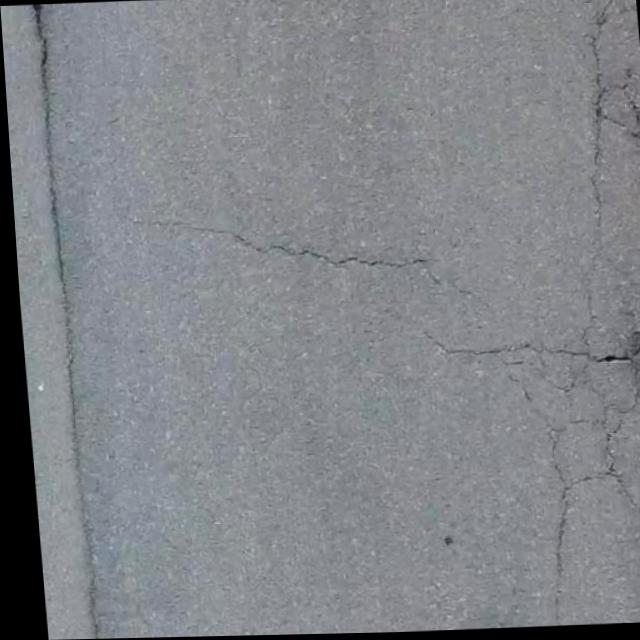Crack: (15, 11, 105, 640), (188, 201, 467, 304), (403, 320, 634, 384), (569, 30, 628, 204)
